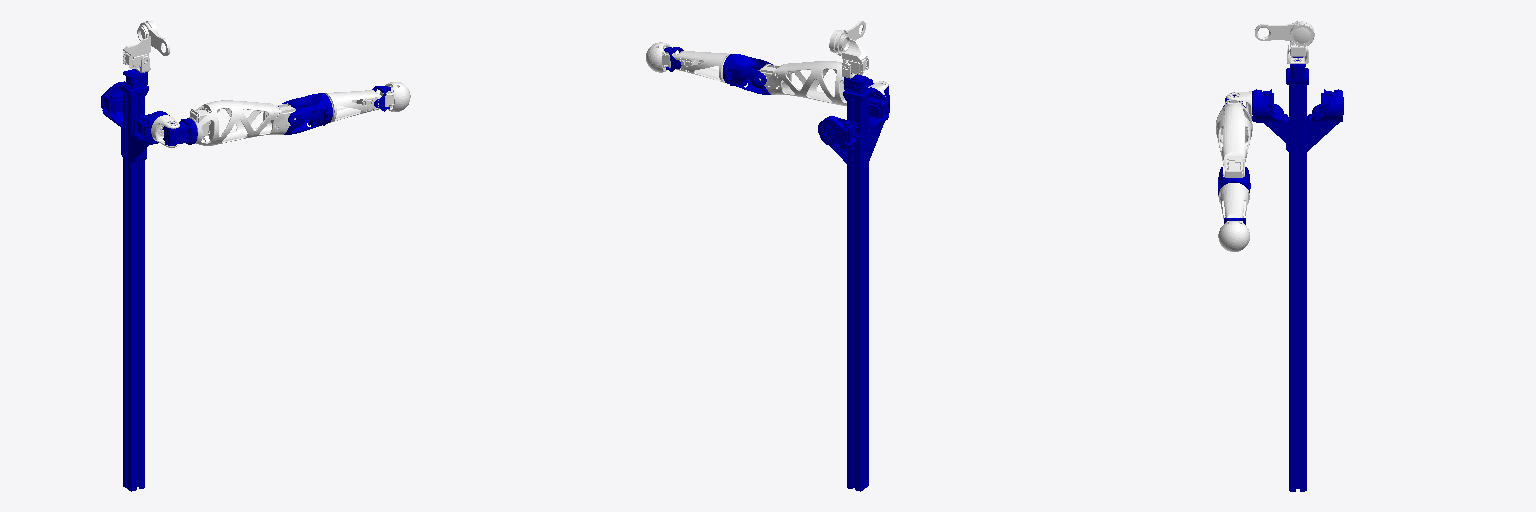
URDF robot description (Reachy):
<?xml version="1.0"?>
<robot name="Reachy">

  <material name="blue">
    <color rgba="0 0 0.8 1"/>
  </material>

  <material name="white">
    <color rgba="1 1 1 1"/>
  </material>

  <material name="red">
    <color rgba="0.8 0 0 1"/>
  </material>

<link name="world" />
<link name="base">
    <visual>
      <geometry>
        <mesh filename="package://reachy/meshes/trunk-visual.stl"></mesh>
      </geometry>
      <material name="blue"/>
    </visual>
    <inertial>
      <inertia ixx= "1.043e-4" ixy= "6.147e-6" ixz= "-1.971e-6" iyy= "1.364e-4" iyz= "1.466e-5" izz= "1.403e-4" ></inertia>
      <mass value="0.221"></mass>
    </inertial>
    <collision>
      <origin xyz="0 0 0" rpy="0 0 0"></origin>
      <geometry>
        <mesh filename="package://reachy/meshes/trunk-respondable.stl"></mesh>
      </geometry>
    </collision>
  </link>
  <joint name="world_to_base_link" type="fixed">
    <parent link="world"/>
    <child link="base"/>
  </joint>
     <link name="shoulder">
    <visual>
      <origin xyz="0 0 0" rpy="0 0 0"></origin>
      <geometry>
        <mesh filename="package://reachy/meshes/shoulder-visual.stl"></mesh>
      </geometry>
      <material name="white"/>
    </visual>
    <inertial>
      <inertia ixx= "1.299e-5" ixy= "5.557e-10" ixz= "-2.973e-10" iyy= "2.323e-5" iyz= "-8.199e-8" izz= "2.227e-5" ></inertia>
      <mass value="0.036"></mass>
    </inertial>
    <collision>
      <origin xyz="0 0 0" rpy="0 0 0"></origin>
      <geometry>
        <mesh filename="package://reachy/meshes/shoulder-respondable.stl"></mesh>
      </geometry>
    </collision>

  </link>

  <link name="shoulder_to_arm">
    <visual>
      <geometry>
        <mesh filename="package://reachy/meshes/shoulder-x-visual.stl"></mesh>
      </geometry>
      <origin rpy="0 0 0" xyz="0 0 0"/>
      <material name="blue"/>
    </visual>
    <inertial>
      <inertia ixx= "6.811e-5" ixy= "-2.299e-10" ixz= "-4.502e-7" iyy= "7.593e-5" iyz= "-1.674e-9" izz= "4.248e-5" ></inertia>
      <mass value="0.155"></mass>
    </inertial>
    <collision>
      <origin xyz="0 0 0" rpy="0 0 0"></origin>
      <geometry>
        <mesh filename="package://reachy/meshes/shoulder-x-respondable.stl"></mesh>
      </geometry>
    </collision>
  </link>

  <link name="upper_arm">
    <visual>
      <geometry>
        <mesh filename="package://reachy/meshes/upper-arm-visual.stl"></mesh>
      </geometry>
      <origin rpy="0 0 0" xyz="0 0 0"/>
      <material name="white"/>
    </visual>
    <inertial>
      <inertia ixx= "4.171e-3" ixy= "1.333e-7" ixz= "-2.900e-4" iyy= "4.276e-3" iyz= "1.465e-6" izz= "3.177e-4" ></inertia>
      <mass value="0.430"></mass>
    </inertial>
    <collision>
      <origin xyz="0 0 0" rpy="0 0 0"></origin>
      <geometry>
        <mesh filename="package://reachy/meshes/upper-arm-respondable.stl"></mesh>
      </geometry>
    </collision>
  </link>

  <link name="forearm">
    <visual>
      <origin xyz="0 0 0" rpy="0 0 0"></origin>
      <geometry>
        <mesh filename="package://reachy/meshes/forearm-visual.stl"></mesh>
      </geometry>
      <origin rpy="0 0 0" xyz="0 0 0"/>
      <material name="blue"/>
    </visual>
    <inertial>
      <inertia ixx= "1.724e-4" ixy= "-1.733e-8" ixz= "1.854e-5" iyy= "1.815e-4" iyz= "-4.191e-8" izz= "9.299e-5" ></inertia>
      <mass value="0.129"></mass>
    </inertial>
    <collision>
      <origin xyz="0 0 0" rpy="0 0 0"></origin>
      <geometry>
        <mesh filename="package://reachy/meshes/forearm-respondable.stl"></mesh>
      </geometry>
    </collision>
  </link>

  <link name="wrist">
    <visual>
      <origin xyz="0 0 0" rpy="0 0 0"></origin>
      <geometry>
        <mesh filename="package://reachy/meshes/wrist-visual.stl"></mesh>
      </geometry>
      <origin rpy="0 0 0" xyz="0 0 0"/>
      <material name="white"/>
    </visual>
    <inertial>
      <inertia ixx= "2.215e-4" ixy= "-2.163e-8" ixz= "-4.702e-6" iyy= "2.306e-4" iyz= "-6.577e-7" izz= "5.075e-5" ></inertia>
      <mass value="0.115"></mass>
    </inertial>
    <collision>
      <origin xyz="0 0 0" rpy="0 0 0"></origin>
      <geometry>
        <mesh filename="package://reachy/meshes/wrist-respondable.stl"></mesh>
      </geometry>
    </collision>
  </link>

  <link name="gripper"> <!--wrist_hand-->
    <visual>
      <geometry>
        <mesh filename="package://reachy/meshes/wrist-hand-visual.stl"></mesh>
      </geometry>
      <origin rpy="0 0 0" xyz="0 0 0"/>
      <material name="blue"/>
    </visual>
    <inertial>
      <inertia ixx= "3.861e-6" ixy= "-2.805e-9" ixz= "-8.067e-8" iyy= "3.694e-6" iyz= "-7.689e-8" izz= "4.987e-6" ></inertia>
      <mass value="0.009"></mass>
    </inertial>
    <collision>
      <origin xyz="0 0 0" rpy="0 0 0"></origin>
      <geometry>
        <mesh filename="package://reachy/meshes/wrist-hand-respondable.stl"></mesh>
      </geometry>
    </collision>
  </link>

  <link name="end_effector">
    <visual>
      <geometry>
        <mesh filename="package://reachy/meshes/ball-tip-visual.stl"></mesh>
      </geometry>
      <origin rpy="0 0 0" xyz="0 0 0"/>
      <material name="white"/>
    </visual>
    <inertial>
      <inertia ixx= "4.177e-5" ixy= "2.340e-9" ixz= "3.492e-8" iyy= "4.290e-5" iyz= "-2.318e-11" izz= "3.596e-5" ></inertia>
      <mass value="0.090"></mass>
    </inertial>
    <collision>
      <origin xyz="0 0 0" rpy="0 0 0"></origin>
      <geometry>
        <mesh filename="package://reachy/meshes/ball-tip-respondable.stl"></mesh>
      </geometry>
    </collision>
  </link>

  <joint name="shoulder_pitch" type="revolute">
    <parent link="base"/>
    <child link="shoulder"/>
    <origin rpy="0 -1.5 0" xyz="0 -0.14 0"/>
    <axis xyz="0 1 0"/>
    <limit lower="-1.5708" upper="3.14159"/>
  </joint>

  <joint name="shoulder_roll" type="revolute">
    <parent link="shoulder"/>
    <child link="shoulder_to_arm"/>
    <origin rpy="0 0 0" xyz="0 0 0"/>
    <axis xyz="1 0 0"/>
    <limit lower="-3.14159" upper="0.174533"/>
  </joint>

  <joint name="arm_yaw" type="revolute">
    <parent link="shoulder_to_arm"/>
    <child link="upper_arm"/>
    <origin rpy="0 0 0" xyz="0 0 0"/>
    <axis xyz="0 0 1"/>
    <limit lower="-1.5708" upper="1.5708"/>
  </joint>

  <joint name="elbow_pitch" type="revolute">
    <parent link="upper_arm"/>
    <child link="forearm"/>
    <origin rpy="0 0 0" xyz="0 0 -0.30745"/>
    <axis xyz="0 1 0"/>
    <limit lower="-2.18166" upper="0"/>
  </joint>

  <joint name="forearm_yaw" type="revolute">
    <parent link="forearm"/>
    <child link="wrist"/>
    <origin rpy="0 0 0" xyz="0 0 0"/>
    <axis xyz="0 0 1"/>
    <limit lower="-2.61799" upper="2.61799"/>
  </joint>

  <joint name="wrist_pitch" type="revolute">
    <parent link="wrist"/>
    <child link="gripper"/>
    <origin rpy="0 0 0" xyz="0 0 -0.22425"/>
    <axis xyz="0 1 0"/>
    <limit lower="-1.22173" upper="1.22173"/>
  </joint>

  <joint name="wrist_roll" type="revolute">
    <parent link="gripper"/>
    <child link="end_effector"/>
    <origin rpy="0 0 0" xyz="0 0 -0.03243"/>
    <axis xyz="1 0 0"/>
    <limit lower="-1.0472" upper="1.0472"/>
  </joint>



  <link name="head_U">
    <visual>
      <origin xyz="0 0 0" rpy="0 0 0"></origin>
      <geometry>
        <mesh filename="package://reachy/meshes/head_u-visual.stl"></mesh>
      </geometry>
      <material name="white"/>
    </visual>
    <inertial>
      <inertia ixx= "1.299e-5" ixy= "5.557e-10" ixz= "-2.973e-10" iyy= "2.323e-5" iyz= "-8.199e-8" izz= "2.227e-5" ></inertia>
      <mass value="0.036"></mass>
    </inertial>
  </link>

  <link name="head_eyes">
    <visual>
      <origin xyz="0 0 0" rpy="0 0 0"></origin>
      <geometry>
        <mesh filename="package://reachy/meshes/head-eyes-visual.stl"></mesh>
      </geometry>
      <material name="white"/>
    </visual>
    <inertial>
      <inertia ixx= "1.299e-5" ixy= "5.557e-10" ixz= "-2.973e-10" iyy= "2.323e-5" iyz= "-8.199e-8" izz= "2.227e-5" ></inertia>
      <mass value="0.036"></mass>
    </inertial>
    <collision>
      <origin xyz="0 0 0" rpy="0 0 0"></origin>
      <geometry>
        <mesh filename="package://reachy/meshes/head-eyes-respondable.stl"></mesh>
      </geometry>
    </collision>
  </link>

    <joint name="head_yaw" type="revolute">
    <parent link="base"/>
    <child link="head_U"/>
    <origin rpy="0 0 0" xyz="0 0 0.13775"/>
    <axis xyz="0 0 1"/>
    <limit lower="-1.5708" upper="3.14159"/>
  </joint>

    <joint name="head_pitch" type="revolute">
    <parent link="head_U"/>
    <child link="head_eyes"/>
    <origin rpy="0 0 0" xyz="0 0 0"/>
    <axis xyz="0 1 0"/>
    <limit lower="-3.14159" upper="0.174533"/>
  </joint>


</robot>

--- Facts derived from the render (not from the file) ---
The picture shows the robot from 3 angles, left to right: view 1: azimuth 30°, elevation 25°; view 2: azimuth 150°, elevation 25°; view 3: azimuth 270°, elevation 25°; orthographic projection.
Robot: Reachy — 11 links, 10 joints (9 revolute, 1 fixed); root link world; default pose: every joint at zero.
Links seen in each view (by area): view 1: base, upper_arm, forearm, head_eyes, wrist, shoulder_to_arm, end_effector; view 2: base, upper_arm, forearm, head_eyes, wrist, end_effector; view 3: base, upper_arm, head_eyes, wrist, end_effector.
Boxes of the visible links, <box> form: base: <box>101,67,169,491</box>; upper_arm: <box>189,100,295,145</box>; forearm: <box>278,93,332,134</box>; head_eyes: <box>123,21,169,68</box>; wrist: <box>325,90,381,122</box>; shoulder_to_arm: <box>163,118,197,145</box>; end_effector: <box>380,82,410,111</box>; base: <box>818,73,889,491</box>; upper_arm: <box>758,61,862,105</box>; forearm: <box>723,54,772,94</box>; head_eyes: <box>829,21,868,74</box>; wrist: <box>674,51,729,82</box>; end_effector: <box>646,42,675,72</box>; base: <box>1252,57,1343,491</box>; upper_arm: <box>1216,100,1252,177</box>; head_eyes: <box>1255,21,1314,57</box>; wrist: <box>1218,183,1249,222</box>; end_effector: <box>1218,221,1249,251</box>.
Size in the robot's own frame: 0.6721 by 0.2829 by 1.15 metres.
Meshes: 10 distinct files referenced, 10 mesh visuals loaded (10 binary STL).